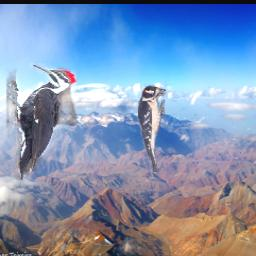Woodpecker: (6, 64, 76, 181), (136, 84, 166, 173)
